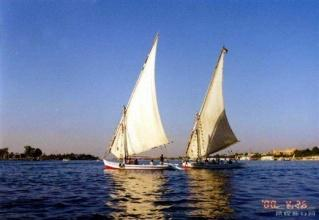fanchuan: (100, 34, 178, 168), (180, 44, 250, 168)
